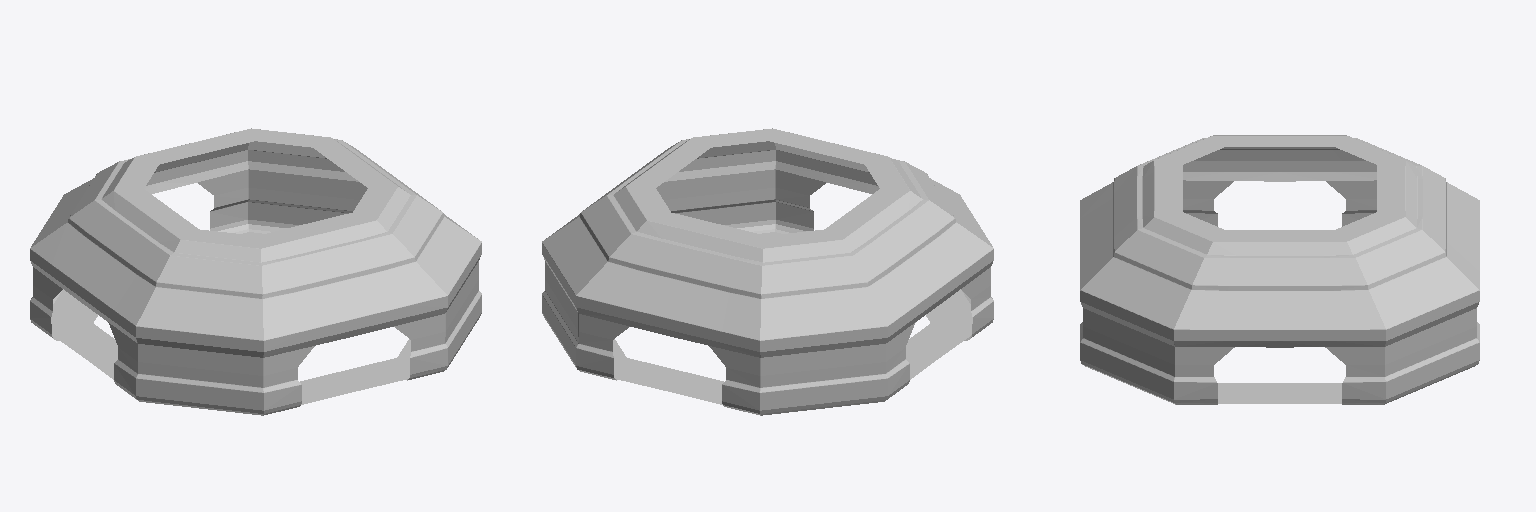
Rendered from Room01Out.obj.
3 views of the same model, side by side, from view 1: azimuth 30°, elevation 25°; view 2: azimuth 150°, elevation 25°; view 3: azimuth 270°, elevation 25° (orthographic).
Parts seen in each view (by area): view 1: RoomOut_Cube.002; view 2: RoomOut_Cube.002; view 3: RoomOut_Cube.002.
Boxes of the visible parts, x1,y1,x2,y2 form: RoomOut_Cube.002: [30, 128, 481, 415]; RoomOut_Cube.002: [542, 128, 993, 415]; RoomOut_Cube.002: [1080, 135, 1479, 404].
Size of the model in its own units: 53.27 by 19.8 by 53.27.